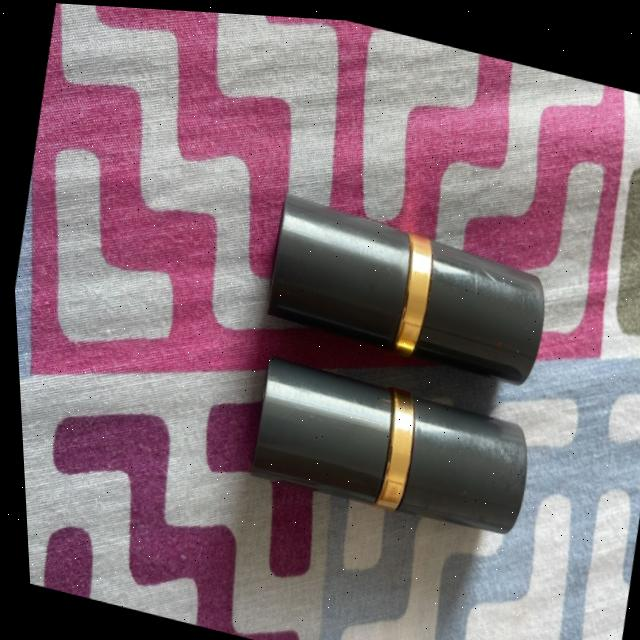lip stick: (214, 328, 560, 585), (245, 166, 587, 419)
